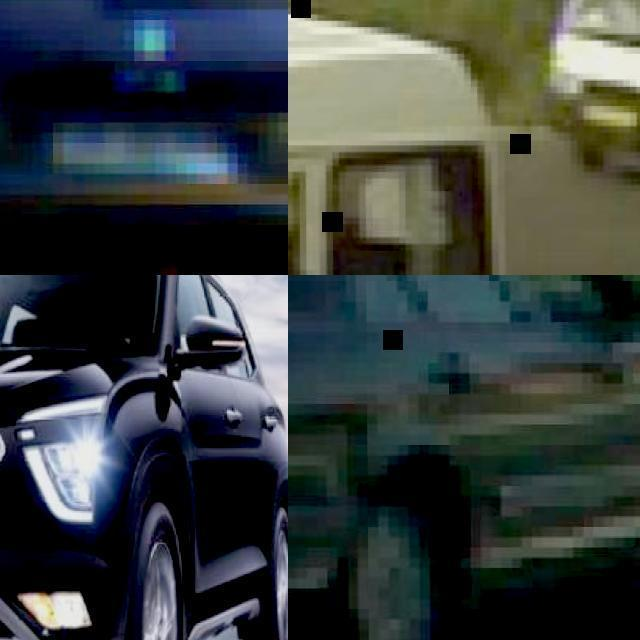car: (0, 352, 288, 633), (0, 369, 114, 429)
